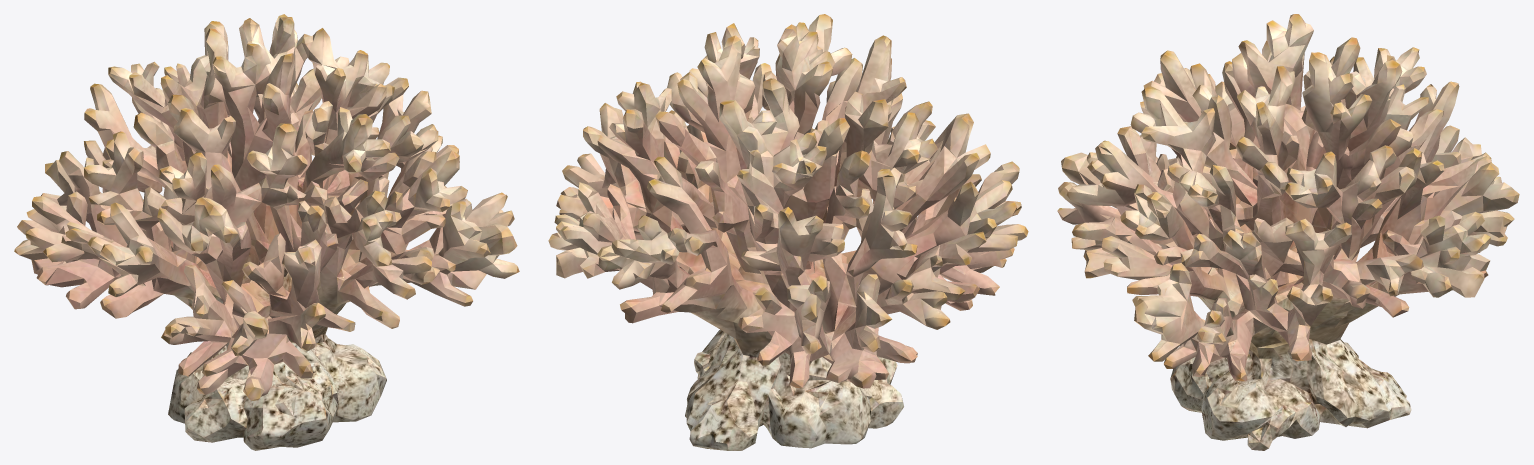
The model's file is min4-coral-final.glb.
3 renders of one model, left to right at view 1: azimuth 30°, elevation 25°; view 2: azimuth 150°, elevation 25°; view 3: azimuth 270°, elevation 25°, orthographic. The views are drawn at different scales.
Parts seen in each view (by area): view 1: Mesh_0; view 2: Mesh_0; view 3: Mesh_0.
Boxes of the visible parts, box(x1,y1,x2,y2) form: Mesh_0: box(14, 14, 519, 450); Mesh_0: box(548, 14, 1028, 450); Mesh_0: box(1057, 14, 1519, 450).
Size of the model in its own units: 0.3326 by 0.3 by 0.3211.
Materials: 1 (1 with a texture image).
